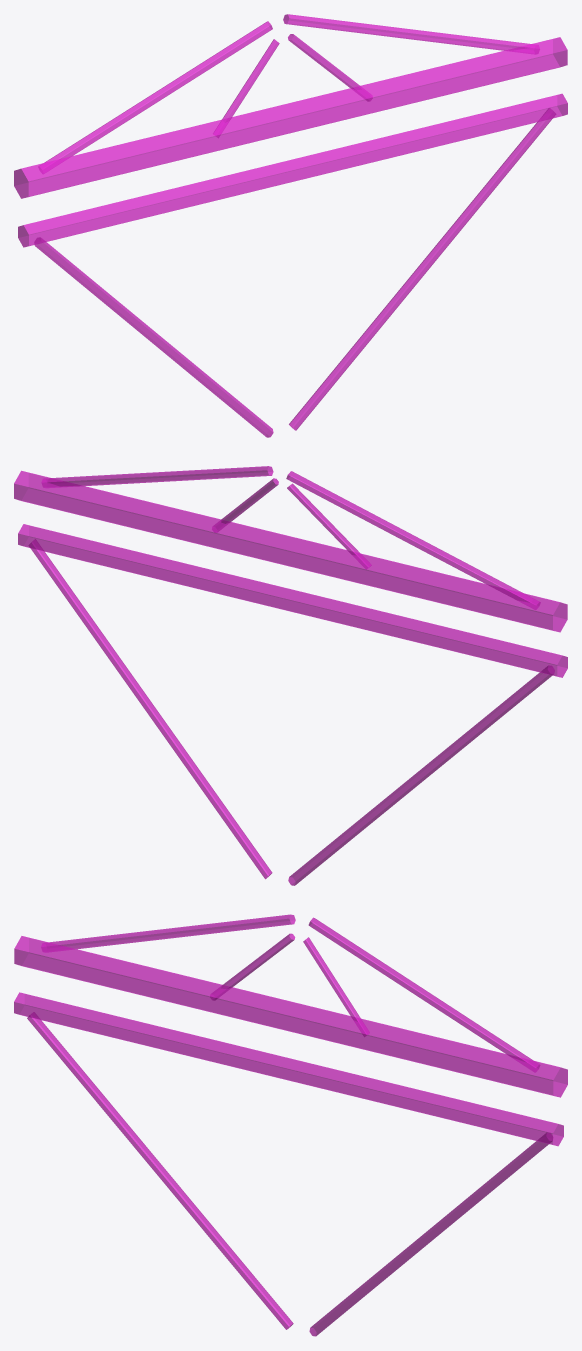
Rendered from SM_Veh_Boat_Medium_01_Sail_Folded_01_Collision.fbx.
The picture shows the model from 3 angles, top to bottom: view 1: azimuth 30°, elevation 25°; view 2: azimuth 150°, elevation 25°; view 3: azimuth 330°, elevation 25°; orthographic projection.
Visible parts, largest first — view 1: SM_Veh_Boat_Medium_01_Sail_Folded_01_Collision; view 2: SM_Veh_Boat_Medium_01_Sail_Folded_01_Collision; view 3: SM_Veh_Boat_Medium_01_Sail_Folded_01_Collision.
Part boxes in pixels (box(x1,y1,x2,y2)): SM_Veh_Boat_Medium_01_Sail_Folded_01_Collision: box(14, 14, 567, 437); SM_Veh_Boat_Medium_01_Sail_Folded_01_Collision: box(14, 466, 567, 885); SM_Veh_Boat_Medium_01_Sail_Folded_01_Collision: box(14, 914, 567, 1336).
Bounding box in the file's own units: 824 × 608 × 59.31.
